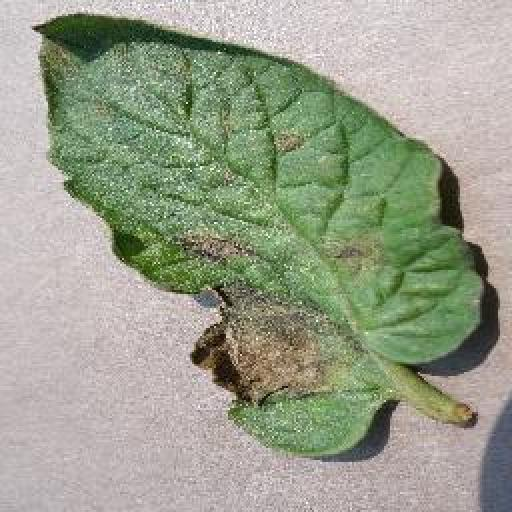Late Blight: (36, 11, 485, 461)
